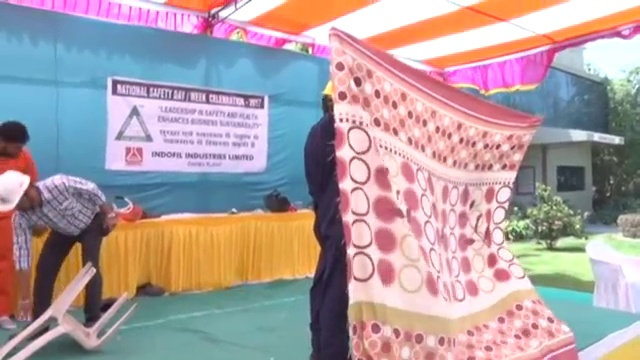helmet: (1, 170, 33, 212)
helmet_on: (1, 169, 42, 214)
person: (1, 170, 119, 336), (301, 79, 352, 360), (1, 118, 38, 332)
